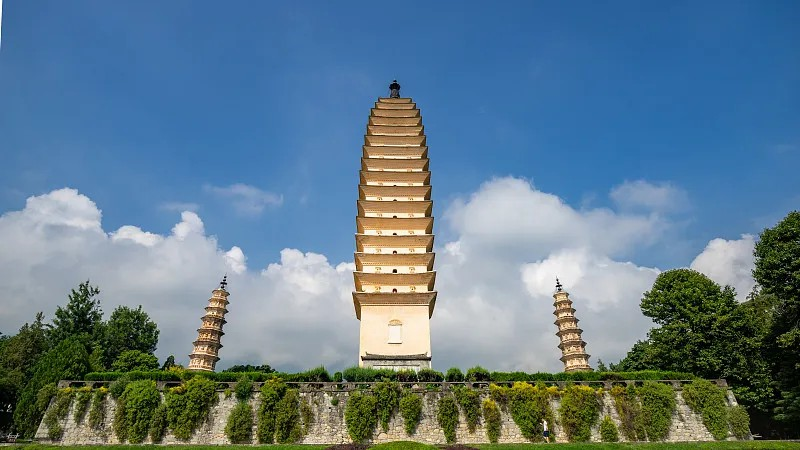ThreePagoda: (352, 79, 437, 371)
